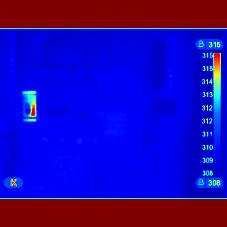Less: (17, 104, 42, 129)
